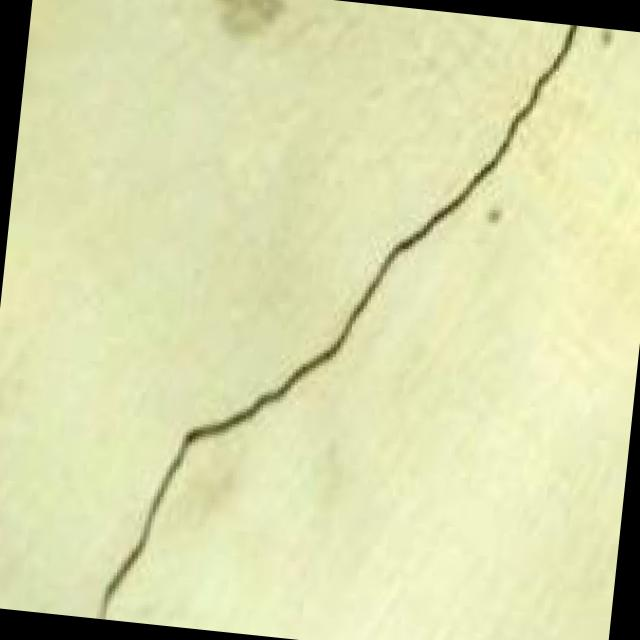crack: (83, 0, 576, 640)
